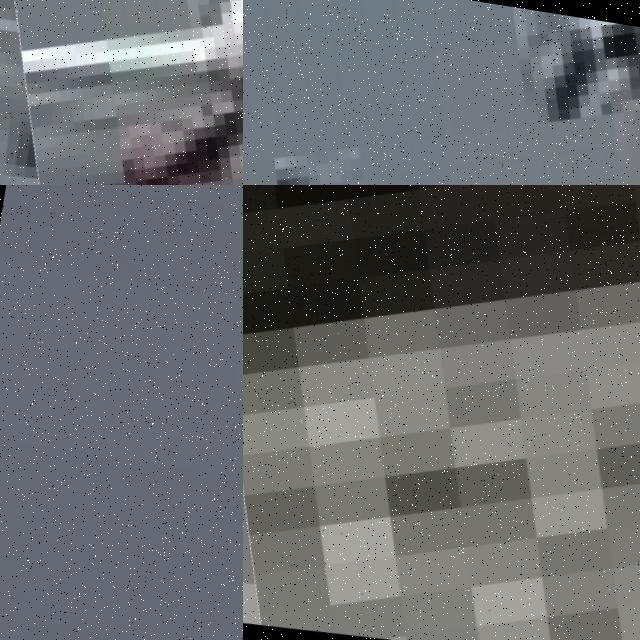0: (243, 0, 640, 185), (0, 0, 243, 185)
drone: (243, 185, 640, 640)
